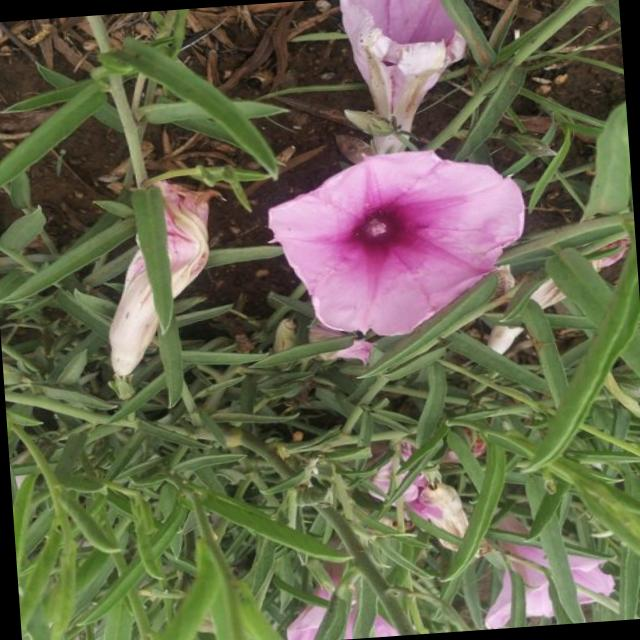ipomoea: (260, 139, 538, 346), (92, 174, 229, 382), (333, 0, 477, 157)
